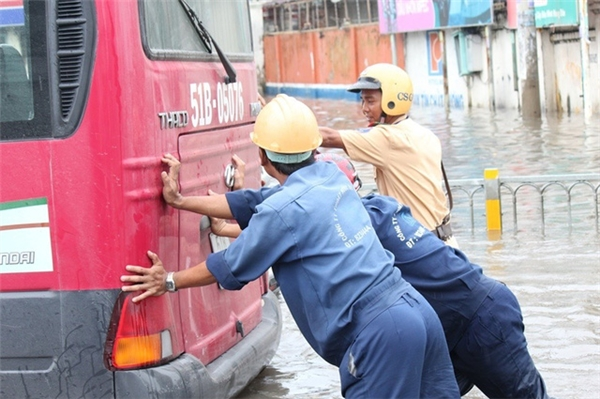police: (304, 61, 467, 256)
